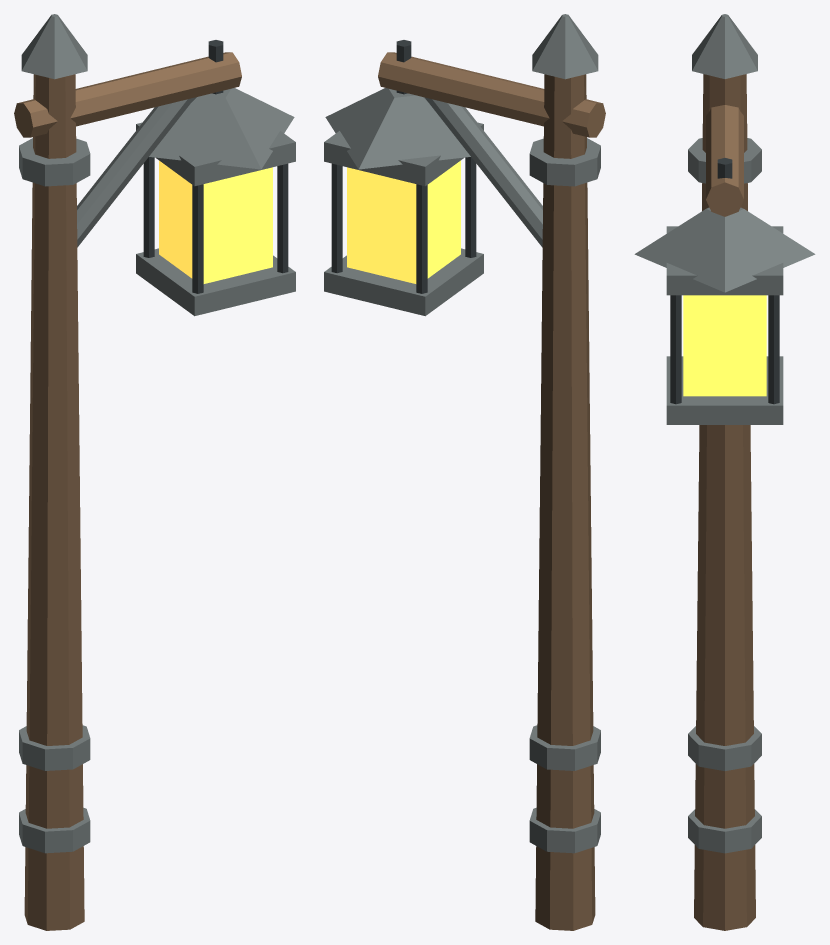
3 renders of one model, left to right at view 1: azimuth 30°, elevation 25°; view 2: azimuth 150°, elevation 25°; view 3: azimuth 270°, elevation 25°, orthographic.
Parts seen in each view (by area): view 1: Ground stake, Lantern amber glass.002, Cross arm, Peaked iron hood.002, Iron lantern frame.004, Diagonal brace, Pole finial, Iron lantern frame.005, Metal collar.002, Metal collar.001, Metal collar, Cage bar.008 (+2 smaller); view 2: Ground stake, Lantern amber glass.002, Cross arm, Peaked iron hood.002, Iron lantern frame.004, Diagonal brace, Pole finial, Iron lantern frame.005, Metal collar.002, Metal collar.001, Metal collar, Cage bar.009 (+2 smaller); view 3: Ground stake, Lantern amber glass.002, Peaked iron hood.002, Iron lantern frame.004, Cross arm, Pole finial, Iron lantern frame.005, Metal collar.001, Metal collar, Cage bar.010, Cage bar.011, Metal collar.002.
Part boxes in pixels (x1,y1,x2,y2): Ground stake: [24, 74, 84, 930]; Lantern amber glass.002: [159, 160, 272, 283]; Cross arm: [14, 52, 241, 137]; Peaked iron hood.002: [149, 88, 294, 169]; Iron lantern frame.004: [136, 248, 295, 316]; Diagonal brace: [77, 97, 195, 247]; Pole finial: [21, 14, 87, 79]; Iron lantern frame.005: [136, 122, 295, 186]; Metal collar.002: [19, 138, 90, 186]; Metal collar.001: [19, 725, 90, 770]; Metal collar: [19, 807, 90, 853]; Cage bar.008: [192, 184, 203, 293]; Ground stake: [535, 74, 595, 930]; Lantern amber glass.002: [347, 160, 460, 283]; Cross arm: [378, 52, 605, 137]; Peaked iron hood.002: [325, 88, 470, 169]; Iron lantern frame.004: [324, 248, 483, 316]; Diagonal brace: [424, 97, 542, 247]; Pole finial: [532, 14, 598, 79]; Iron lantern frame.005: [324, 122, 483, 186]; Metal collar.002: [529, 138, 600, 186]; Metal collar.001: [529, 725, 600, 770]; Metal collar: [529, 807, 600, 853]; Cage bar.009: [416, 184, 427, 293]; Ground stake: [694, 74, 755, 930]; Lantern amber glass.002: [683, 295, 766, 396]; Peaked iron hood.002: [634, 207, 815, 292]; Iron lantern frame.004: [666, 356, 783, 424]; Cross arm: [706, 105, 743, 216]; Pole finial: [692, 14, 757, 78]; Iron lantern frame.005: [666, 226, 783, 295]; Metal collar.001: [688, 726, 761, 770]; Metal collar: [688, 809, 761, 853]; Cage bar.010: [670, 295, 681, 404]; Cage bar.011: [768, 295, 779, 404]; Metal collar.002: [688, 138, 761, 183].
Bounding box in the file's own units: 1.32 × 4.17 × 0.76.
